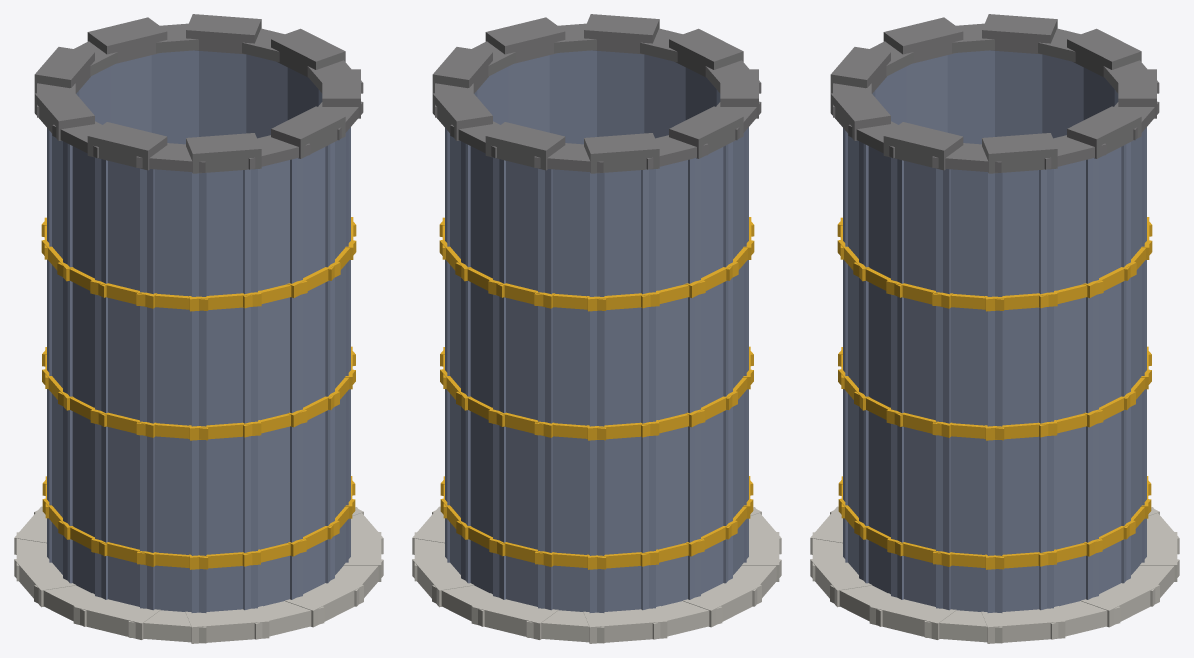
The picture shows the model from 3 angles, left to right: view 1: azimuth 30°, elevation 25°; view 2: azimuth 150°, elevation 25°; view 3: azimuth 270°, elevation 25°; orthographic projection.
Parts seen in each view (by area): view 1: tube; view 2: tube; view 3: tube.
Boxes of the visible parts, <box> form: tube: <box>14,14,383,643</box>; tube: <box>412,14,781,643</box>; tube: <box>810,14,1179,643</box>.
Bounding box in the file's own units: 4.44 × 6.33 × 4.4.
